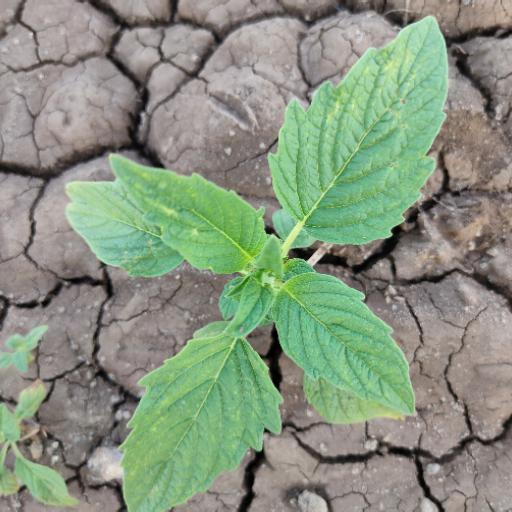crop: (58, 18, 452, 506)
